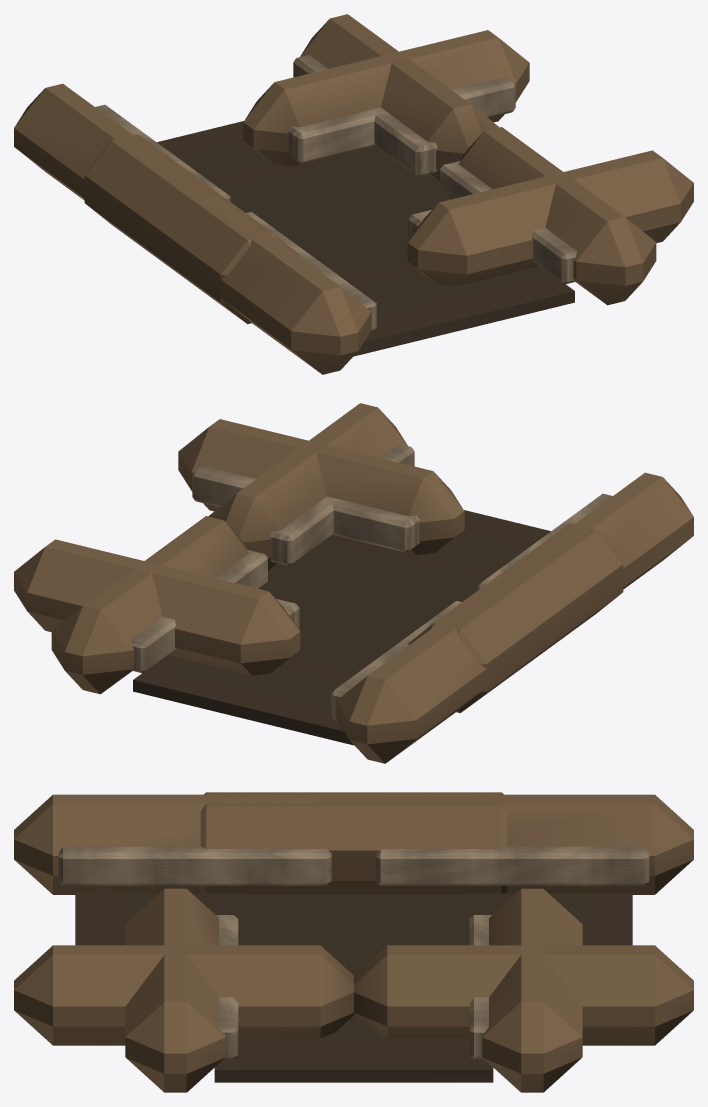
The model's file is trench_junction.glb.
The picture shows the model from 3 angles, top to bottom: view 1: azimuth 30°, elevation 25°; view 2: azimuth 150°, elevation 25°; view 3: azimuth 270°, elevation 25°; orthographic projection. The views are drawn at different scales.
Visible parts, largest first — view 1: Earth revetment, Trench dark earth, Timber worn edges; view 2: Earth revetment, Trench dark earth, Timber worn edges; view 3: Earth revetment, Trench dark earth, Timber worn edges.
Part boxes in pixels (bbox=[...]): Earth revetment: bbox=[14, 14, 693, 374]; Trench dark earth: bbox=[157, 121, 574, 356]; Timber worn edges: bbox=[95, 55, 576, 331]; Earth revetment: bbox=[14, 403, 693, 763]; Trench dark earth: bbox=[133, 510, 550, 745]; Timber worn edges: bbox=[131, 444, 612, 720]; Earth revetment: bbox=[14, 792, 693, 1092]; Trench dark earth: bbox=[75, 893, 632, 1082]; Timber worn edges: bbox=[58, 846, 649, 1059].
Size of the model in its own units: 1.02 by 0.18 by 1.22.
Materials: 3 (1 with a texture image).
